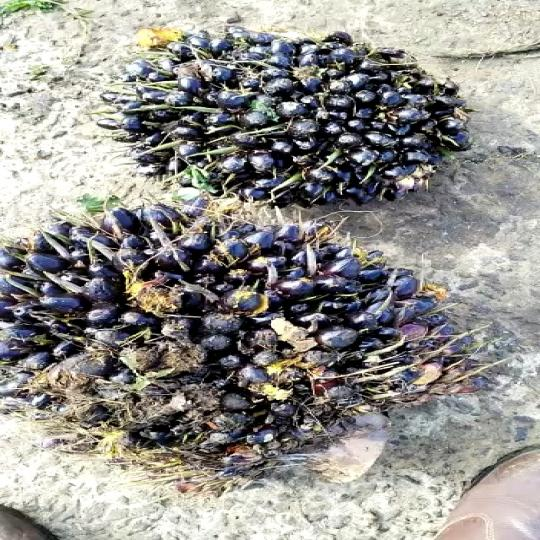mentah: (0, 181, 483, 476), (75, 23, 503, 215)
